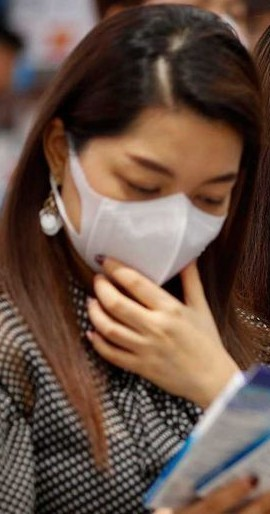with_mask: (55, 77, 251, 294)
